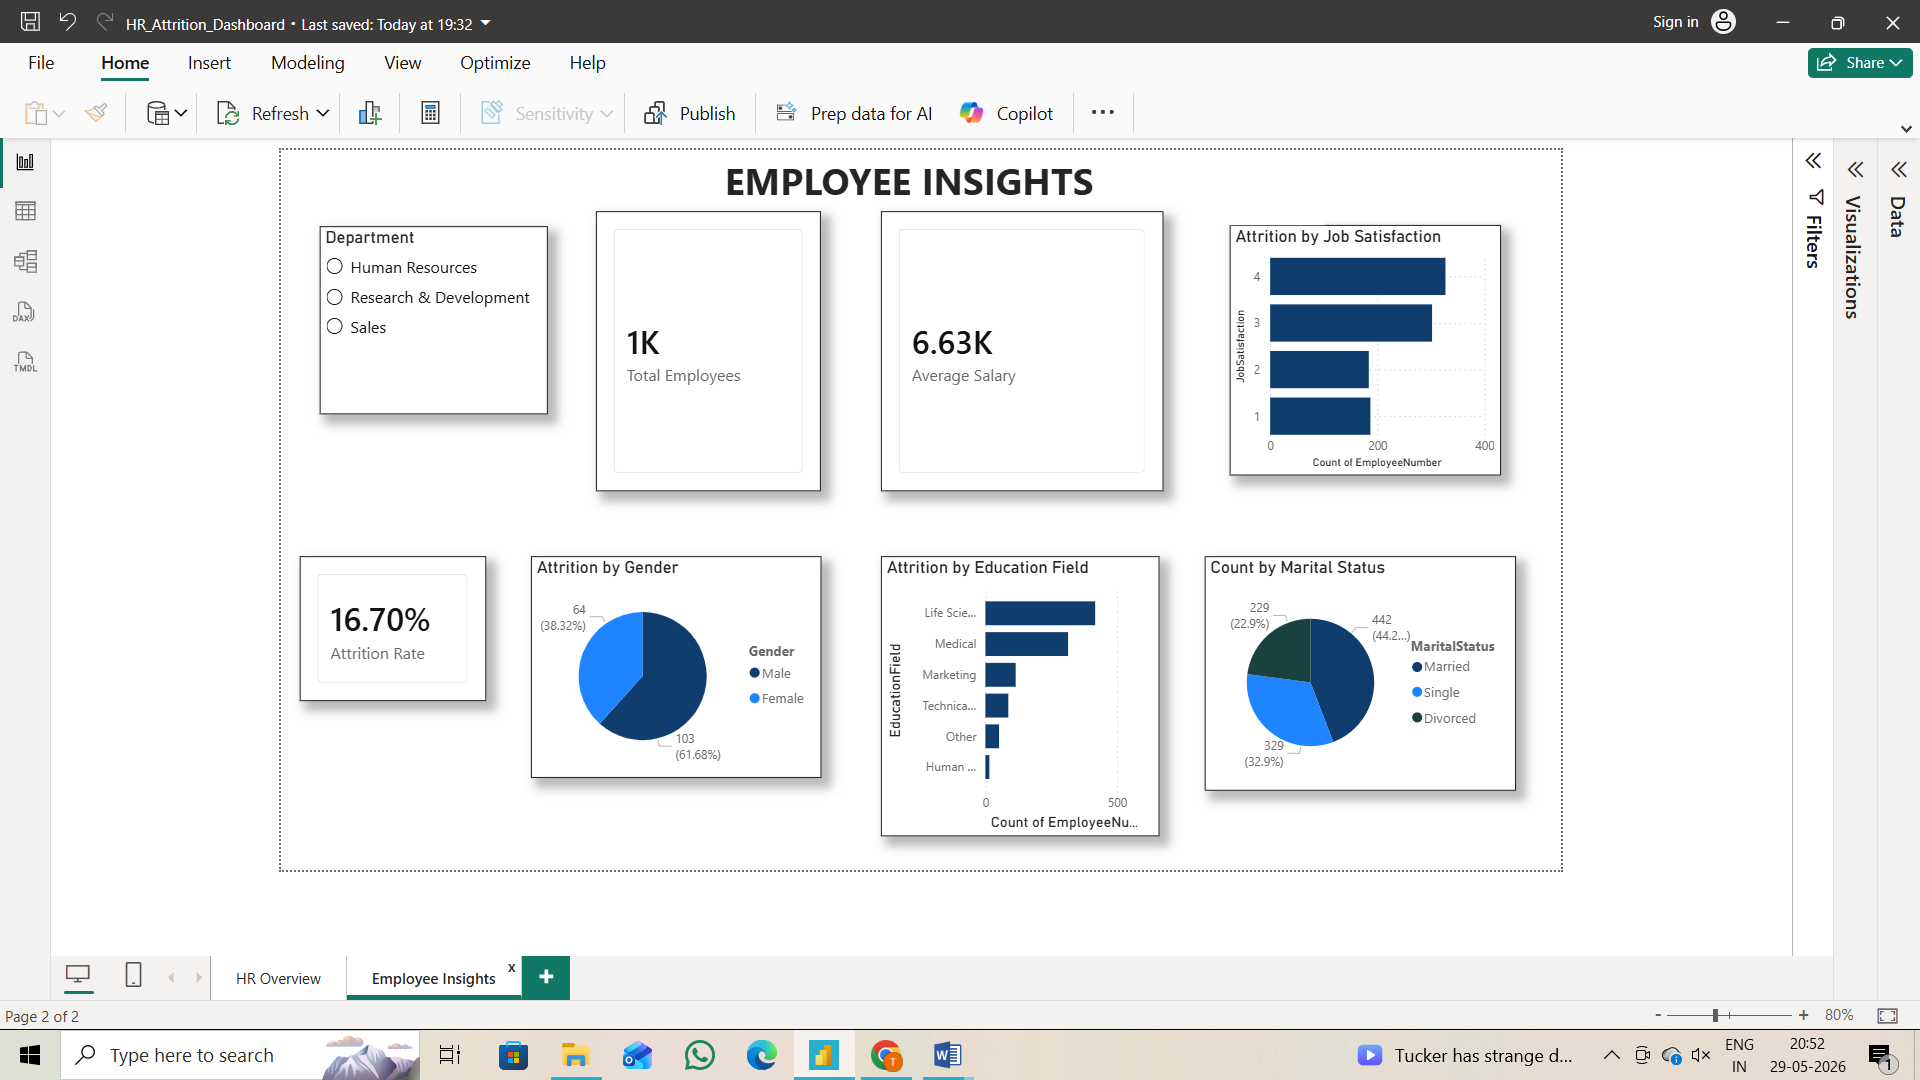

Layout of this report page (visuals, bound fields, positions):
{"tool":"powerbi","page":{"name":"Employee Insights","canvas":[1280,720],"ordinal":1},"visuals":[{"type":"clusteredBarChart","title":"Attrition by Job Satisfaction","fields":{"Category":["employees.JobSatisfaction"],"Y":["CountNonNull(employees.EmployeeNumber)"]},"box":[948.8,75,271.2,250],"z":0},{"type":"pieChart","title":"Attrition by Gender","fields":{"Category":["employees.Gender"],"Y":["CountNonNull(employees.EmployeeNumber)"]},"box":[237.7,406.6,289.5,220.8],"z":1000},{"type":"clusteredBarChart","title":"Attrition by Education Field","fields":{"Category":["employees.EducationField"],"Y":["CountNonNull(employees.EmployeeNumber)"]},"box":[585.7,406.6,279.9,279.9],"z":2000},{"type":"pieChart","title":"Count by Marital Status","fields":{"Category":["employees.MaritalStatus"],"Y":["CountNonNull(employees.EmployeeNumber)"]},"box":[924.1,406.6,311.3,234],"z":3000},{"type":"textbox","box":[439.1,0,605.1,75.5],"z":4000},{"type":"listSlicer","fields":{"Values":["employees.Department"]},"box":[38.6,76,228,188.2],"z":5000},{"type":"cardVisual","fields":{"Data":["CountNonNull(employees.EmployeeNumber)"]},"box":[302.8,61.5,224.4,279.9],"z":6000},{"type":"cardVisual","fields":{"Data":["Avg(employees.MonthlyIncome)"]},"box":[568.8,61.2,282.5,280],"z":7000},{"type":"cardVisual","fields":{"Data":["employees.Attrition Rate"]},"box":[18.8,406.2,186.2,145],"z":8000}]}

Visuals, with their boxes on the page's 1280x720 design canvas (x1, y1, x2, y2). These are canvas units, not pixel positions in the 1920x1080 screenshot, which may show the page scaled, cropped or inside an application window:
"Attrition by Job Satisfaction" clusteredBarChart: x1=949, y1=75, x2=1220, y2=325
"Attrition by Gender" pieChart: x1=238, y1=407, x2=527, y2=627
"Attrition by Education Field" clusteredBarChart: x1=586, y1=407, x2=866, y2=686
"Count by Marital Status" pieChart: x1=924, y1=407, x2=1235, y2=641
textbox: x1=439, y1=0, x2=1044, y2=76
listSlicer - employees.Department: x1=39, y1=76, x2=267, y2=264
cardVisual - CountNonNull(employees.EmployeeNumber): x1=303, y1=62, x2=527, y2=341
cardVisual - Avg(employees.MonthlyIncome): x1=569, y1=61, x2=851, y2=341
cardVisual - employees.Attrition Rate: x1=19, y1=406, x2=205, y2=551
